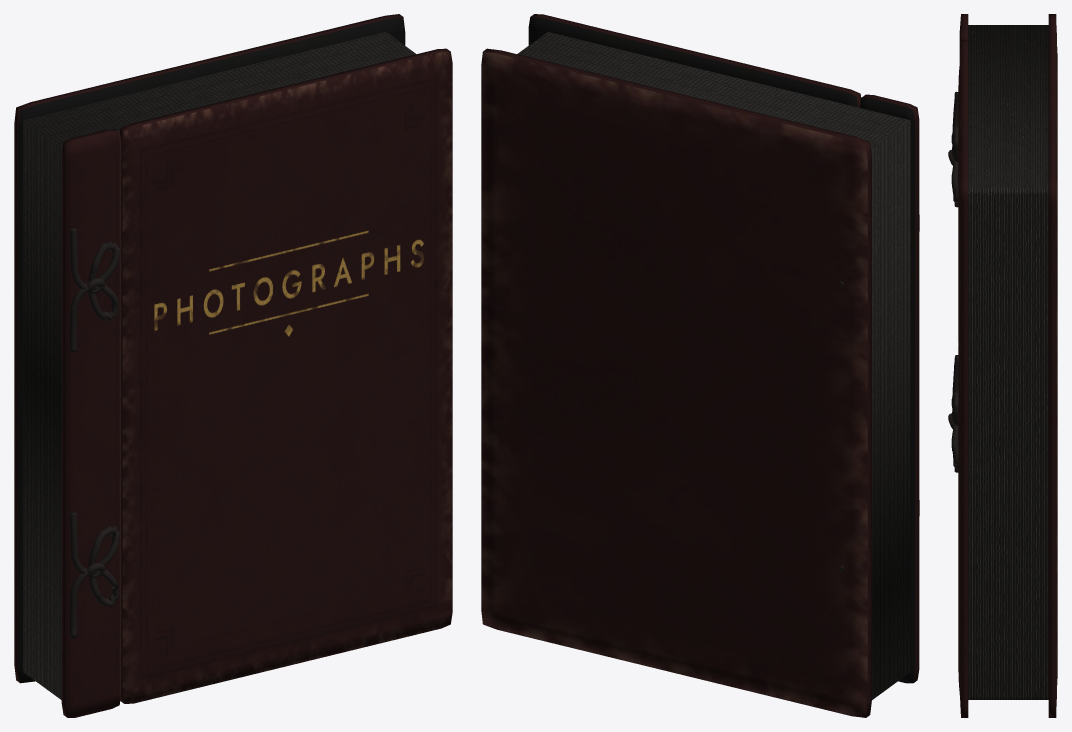
Rendered from album.glb.
The picture shows the model from 3 angles, left to right: view 1: azimuth 30°, elevation 25°; view 2: azimuth 150°, elevation 25°; view 3: azimuth 270°, elevation 25°; orthographic projection. The views are drawn at different scales.
Visible parts, largest first — view 1: al_front, al_pages, al_strip, al_back, al_bow_1, al_bow_0; view 2: al_back, al_pages, al_strip, al_front; view 3: al_pages, al_front, al_back, al_bow_1, al_bow_0, al_strip.
Boxes of the visible parts, x1,y1,x2,y2 form: al_front: (120,48,452,703); al_pages: (23,32,416,699); al_strip: (61,129,121,717); al_back: (14,14,405,683); al_bow_1: (69,511,119,638); al_bow_0: (69,228,120,351); al_back: (481,48,871,717); al_pages: (517,32,910,699); al_strip: (860,94,919,683); al_front: (528,14,861,107); al_pages: (968,25,1048,699); al_front: (958,39,968,717); al_back: (1048,14,1057,717); al_bow_1: (948,355,958,472); al_bow_0: (948,91,958,207); al_strip: (959,14,968,61).
Bounding box in the file's own units: 0.165 × 0.235 × 0.0436.
Materials: 4 (3 with a texture image).
